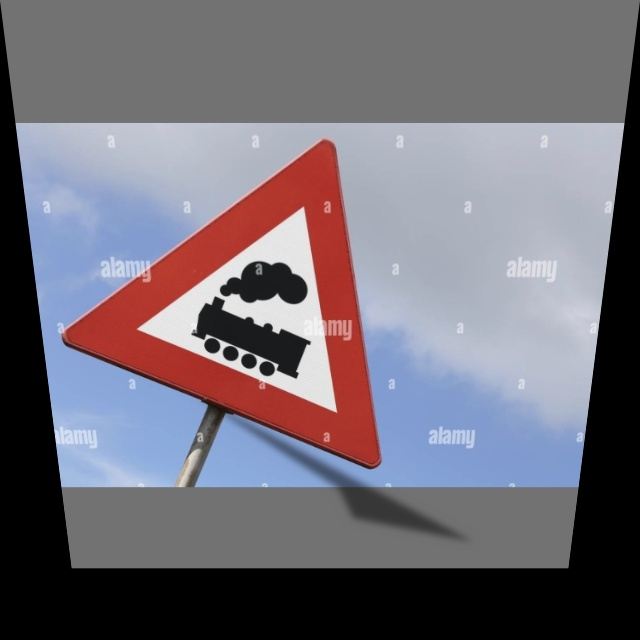Unguarded_Level_Crossing: (74, 143, 391, 431)
